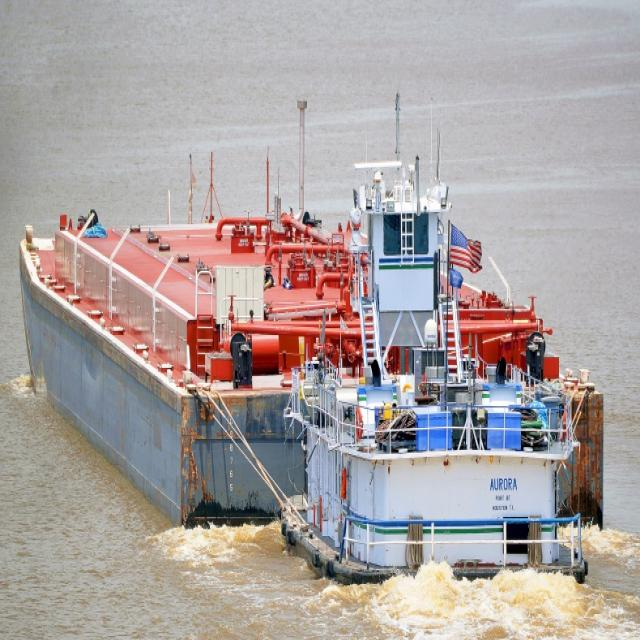tugboat: (276, 156, 595, 597)
